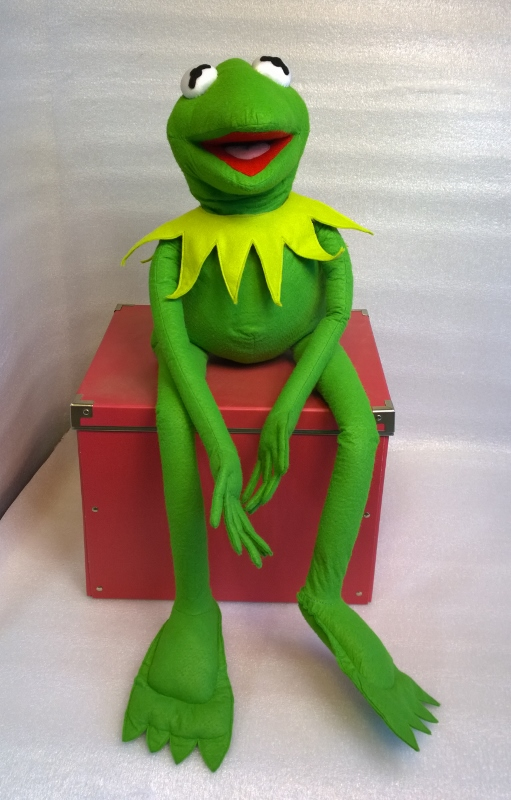kermit: (165, 56, 312, 211)
